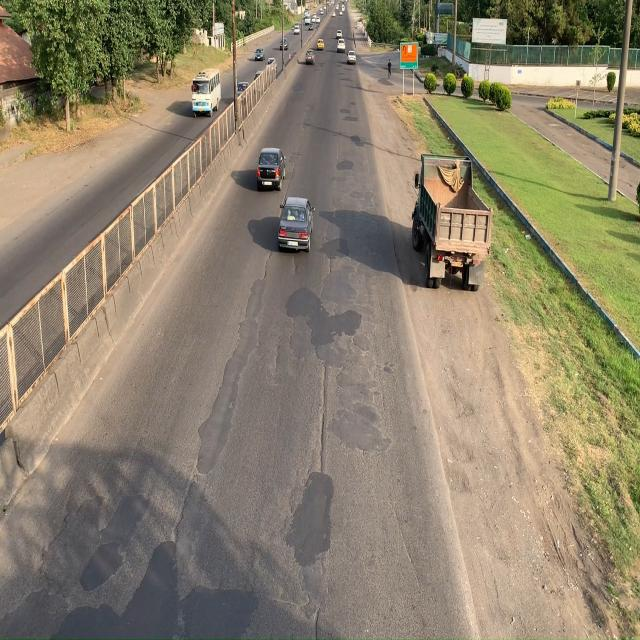Truck: (411, 150, 494, 294)
cars: (278, 193, 314, 253), (255, 146, 286, 188)
